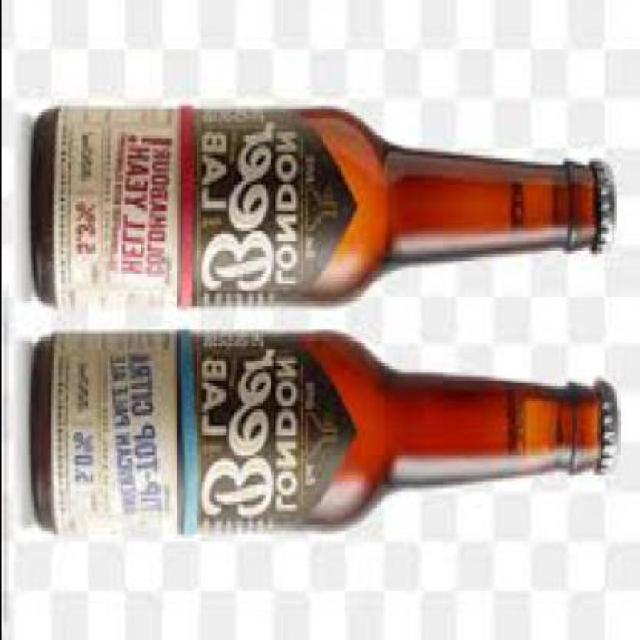GLASS: (30, 333, 601, 535), (32, 112, 598, 306)
METAL: (593, 168, 618, 258), (603, 386, 620, 479)
